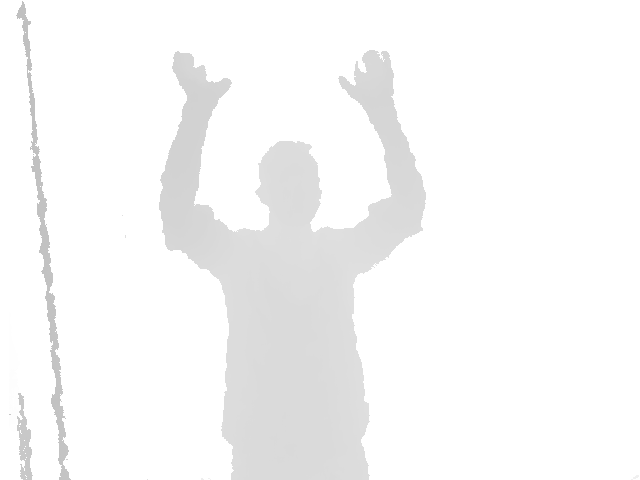hand: (173, 51, 232, 111), (338, 50, 396, 111)
head: (256, 141, 321, 226)
person: (159, 50, 427, 480)
